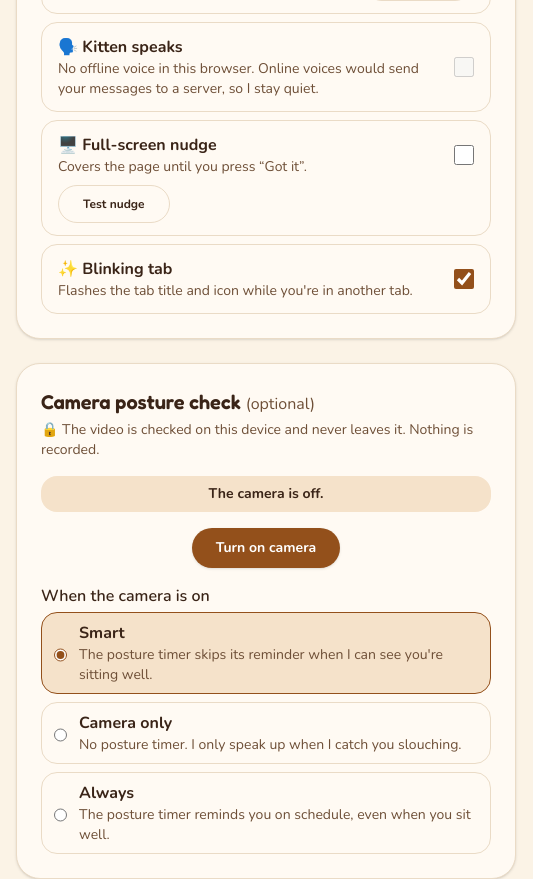
Test: camera posture check › closes the camera right away if it was turned off while still starting
The width and height of the screenshot is (533, 879).
(page scrolled)
What coordinates should you click on to do the following:
click the button "Turn on camera"
I would click on:
 (266, 548)
Its box is left=192, top=528, right=340, bottom=568.
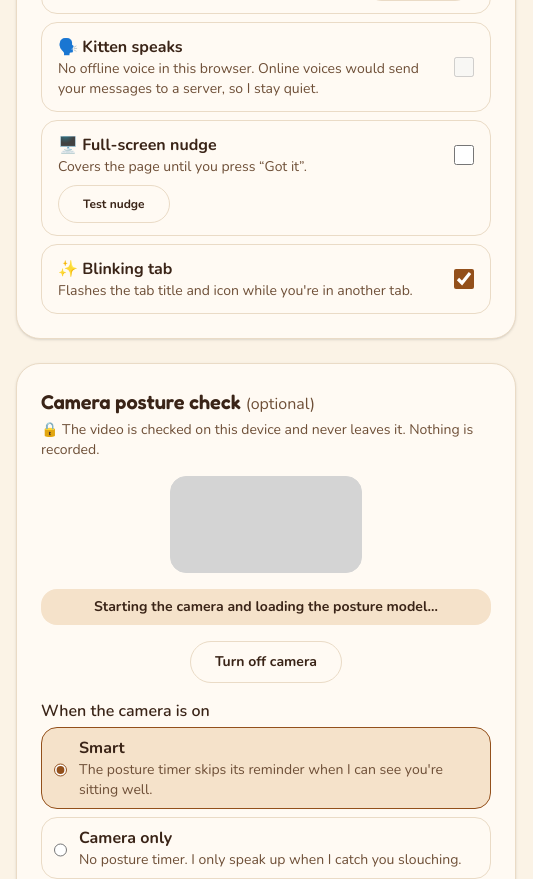
Result: the message with test id "camera-status" shows "Starting the camera" at left=94, top=597, right=438, bottom=616
What coordinates should you click on to do the following:
click the button "Turn off camera"
I would click on:
 (266, 662)
Its box is left=190, top=641, right=342, bottom=683.
Wait 2000 ms
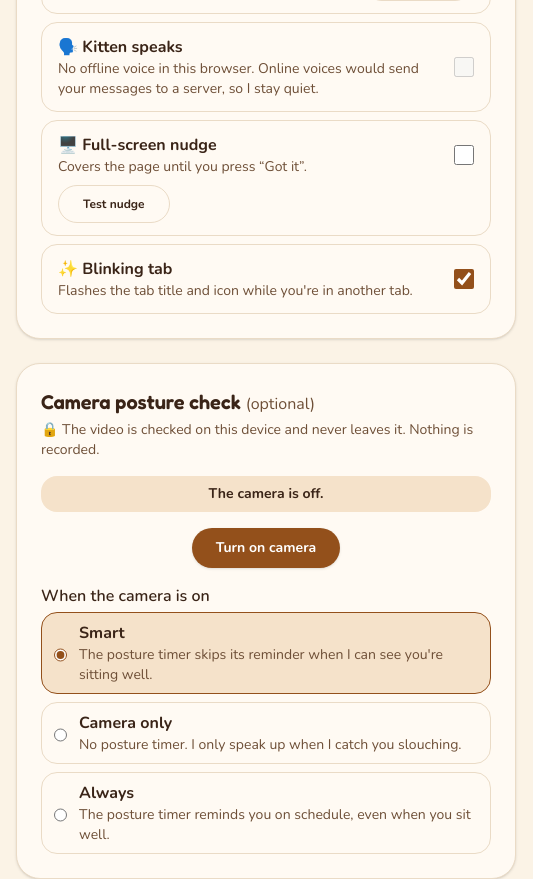
Result: the message with test id "camera-status" reads "The camera is off." at left=208, top=484, right=324, bottom=503
